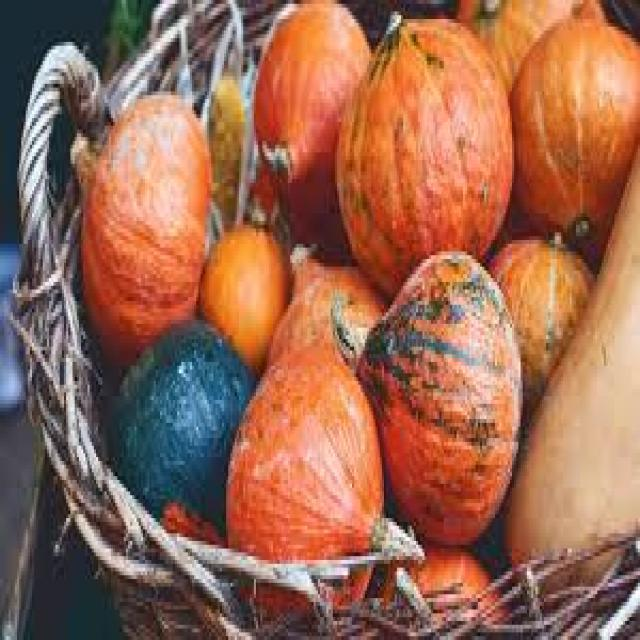organic waste: (503, 103, 638, 594), (328, 240, 518, 541), (329, 4, 512, 301), (224, 351, 418, 617), (66, 84, 211, 354), (104, 312, 254, 552), (510, 0, 638, 263), (252, 0, 371, 248), (488, 221, 589, 427), (450, 0, 604, 107), (260, 240, 378, 362), (371, 530, 506, 636), (196, 221, 290, 373), (205, 69, 245, 217)
